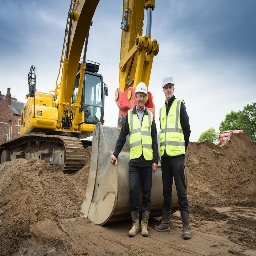helmet: (160, 72, 177, 88), (134, 81, 149, 96)
person: (157, 70, 194, 242), (126, 81, 157, 239)
vest: (126, 105, 156, 173), (158, 100, 189, 160)
